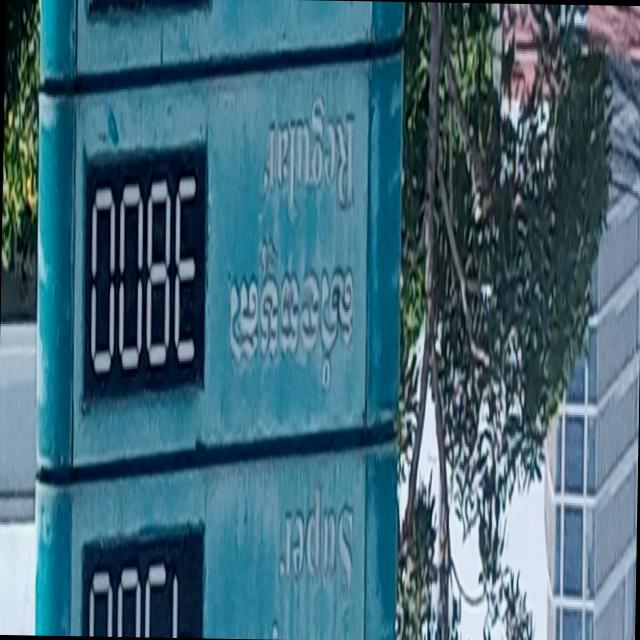733: (77, 129, 204, 419)
Yolov11kh: (221, 206, 362, 411)
